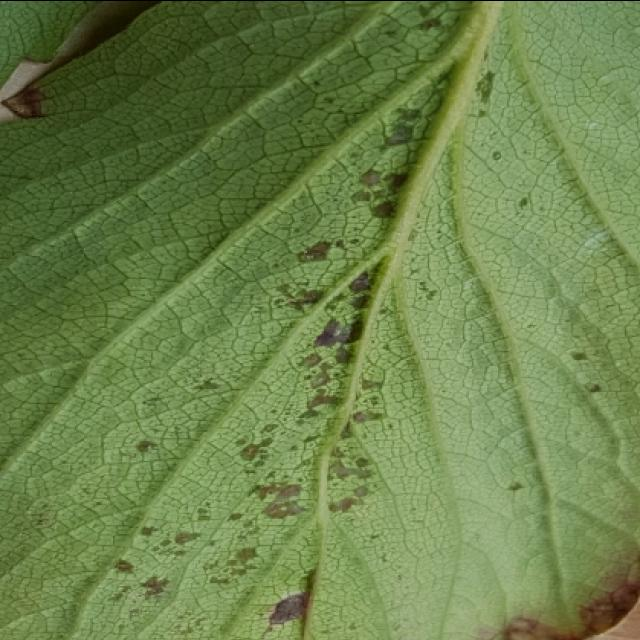Angular Leafspot: (89, 2, 638, 640)
